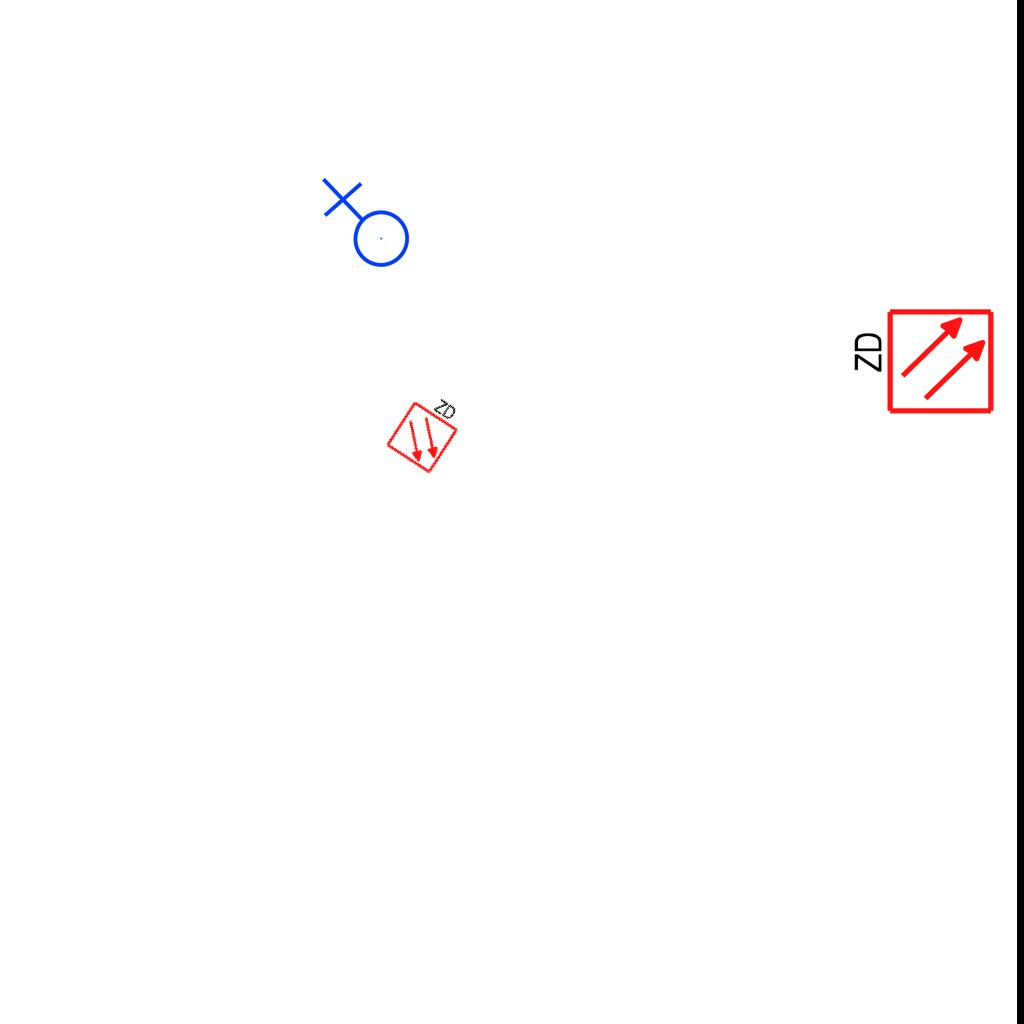Elektroanschluss_allgemein_230V_Geraeteanschlussdose_230V: (317, 177, 411, 276)
ZD_Melder_in_Zwischendecke_mit_Revisionsoeffnung_mind_40_x_40_cm: (847, 306, 996, 420), (382, 382, 471, 476)
